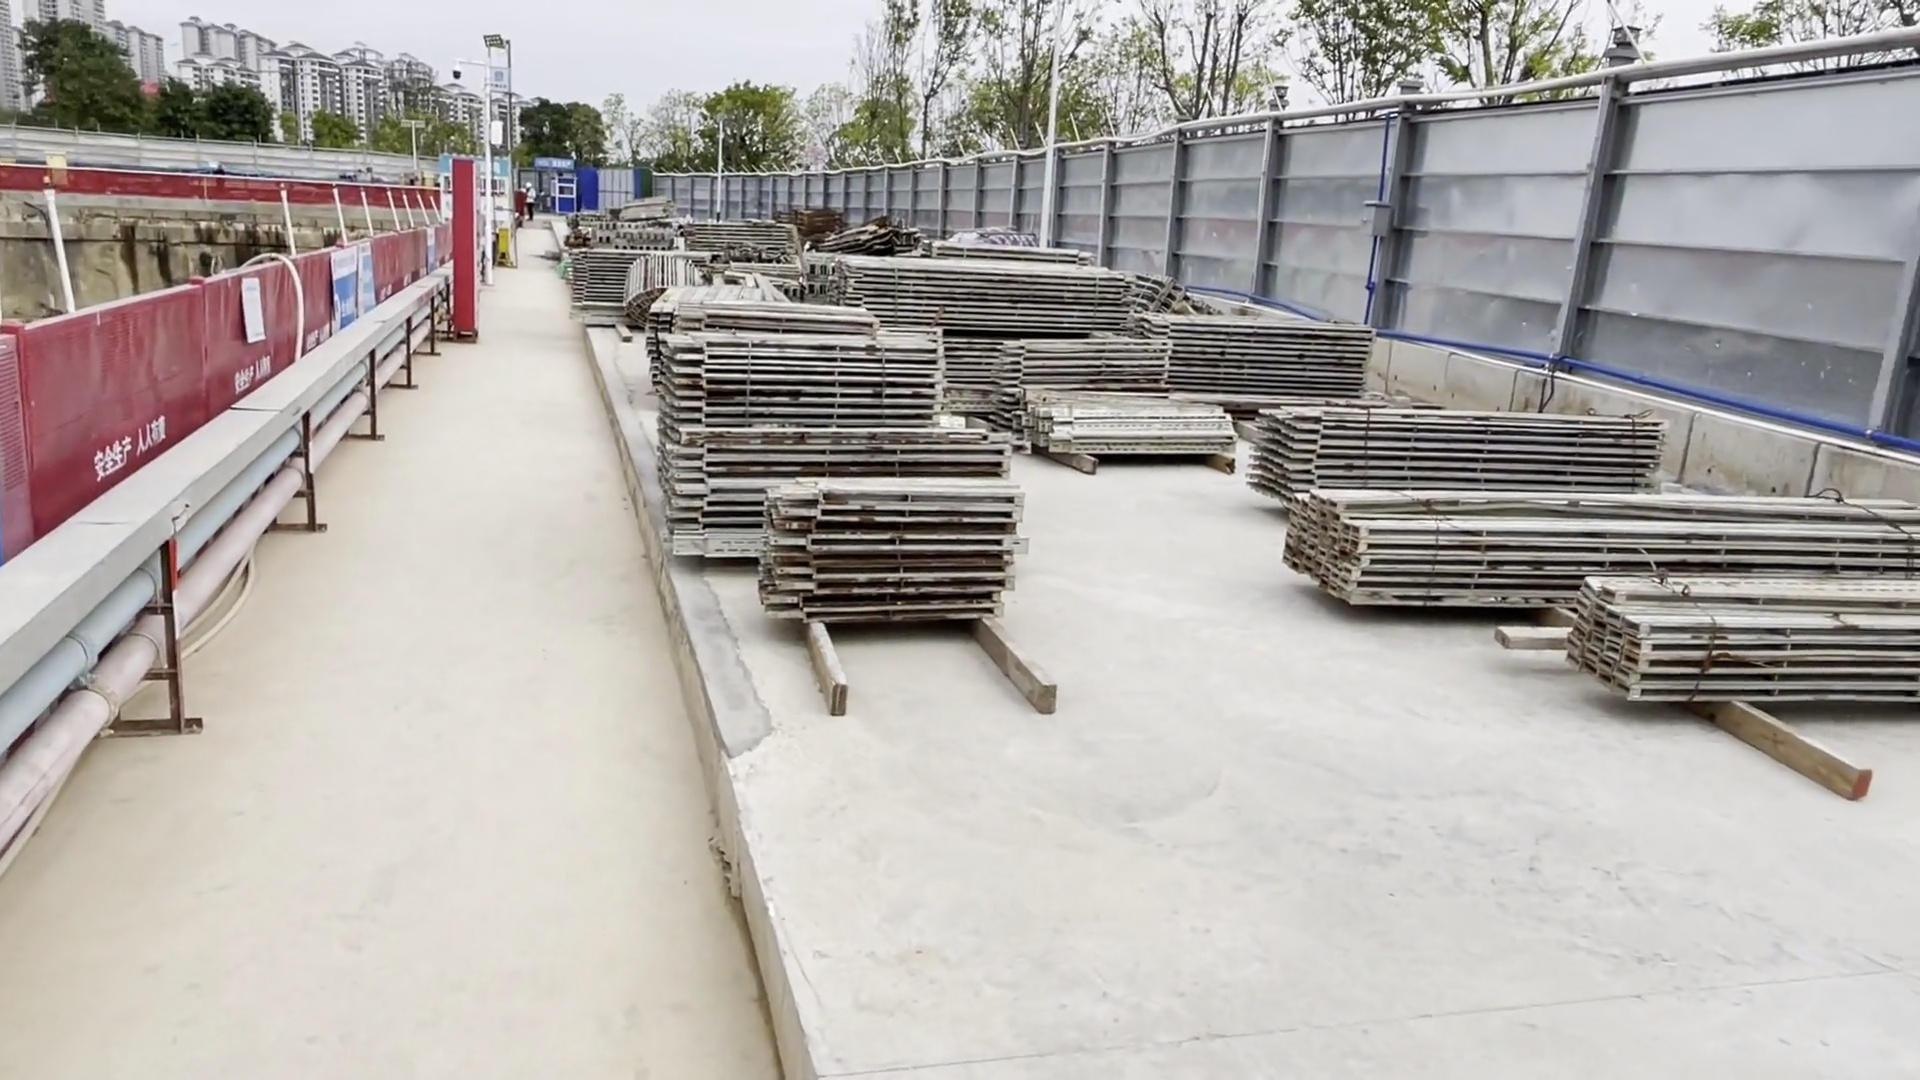fence: (1, 241, 355, 570)
